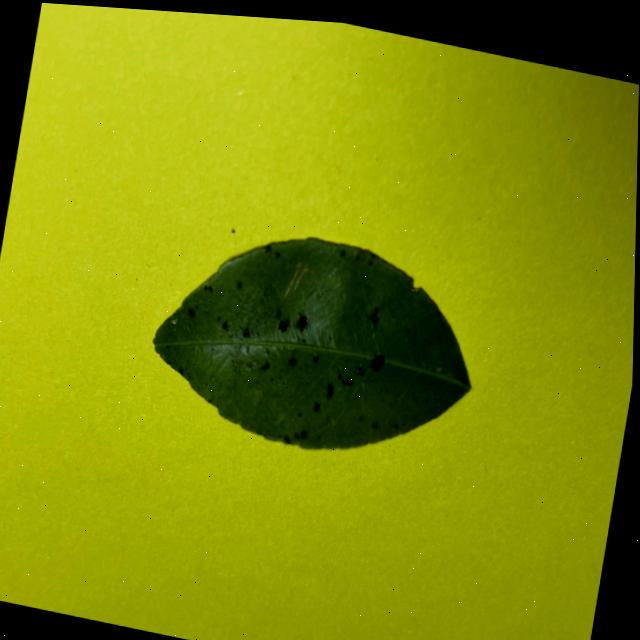sooty_mold: (154, 240, 470, 449)
